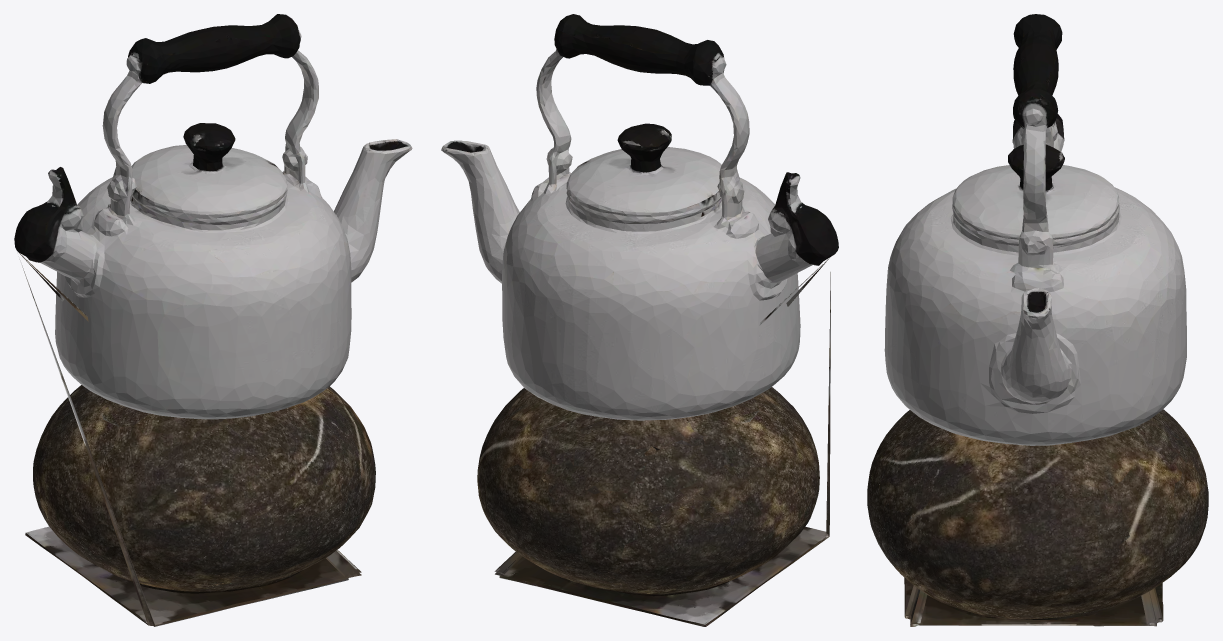
File: tail (278).glb
3 renders of one model, left to right at view 1: azimuth 30°, elevation 25°; view 2: azimuth 150°, elevation 25°; view 3: azimuth 270°, elevation 25°, orthographic.
Parts seen in each view (by area): view 1: Hy21_Mesh.obj; view 2: Hy21_Mesh.obj; view 3: Hy21_Mesh.obj.
Part boxes in pixels (bbox=[...]): Hy21_Mesh.obj: bbox=[14, 14, 412, 626]; Hy21_Mesh.obj: bbox=[441, 14, 838, 626]; Hy21_Mesh.obj: bbox=[867, 14, 1208, 626].
Bounding box in the file's own units: 1.53 × 1.96 × 1.13.
1 material, 1 textured.
